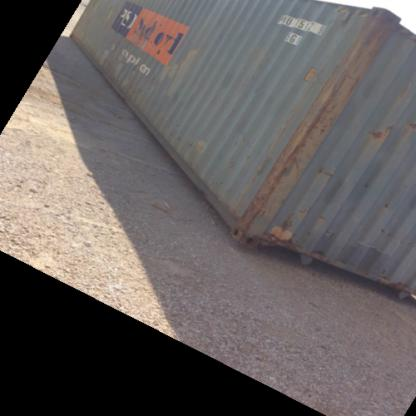Damage: (262, 128, 303, 196), (309, 76, 354, 134), (360, 115, 394, 144), (268, 214, 298, 245), (173, 128, 202, 156), (302, 239, 332, 260), (336, 4, 363, 22), (308, 164, 337, 180), (132, 19, 152, 42), (378, 196, 396, 218)
